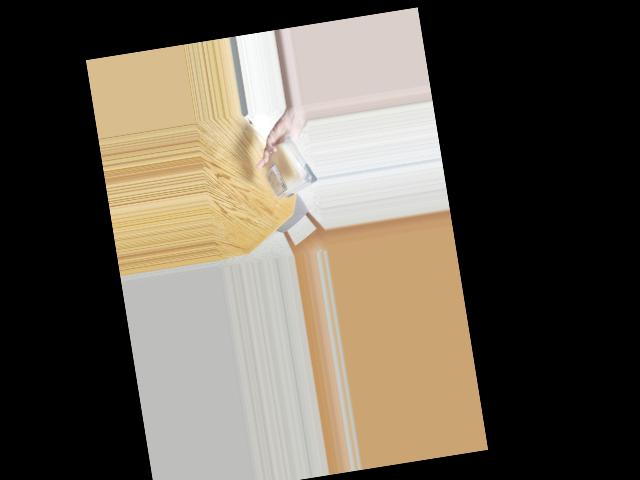cheese: (259, 138, 315, 200)
